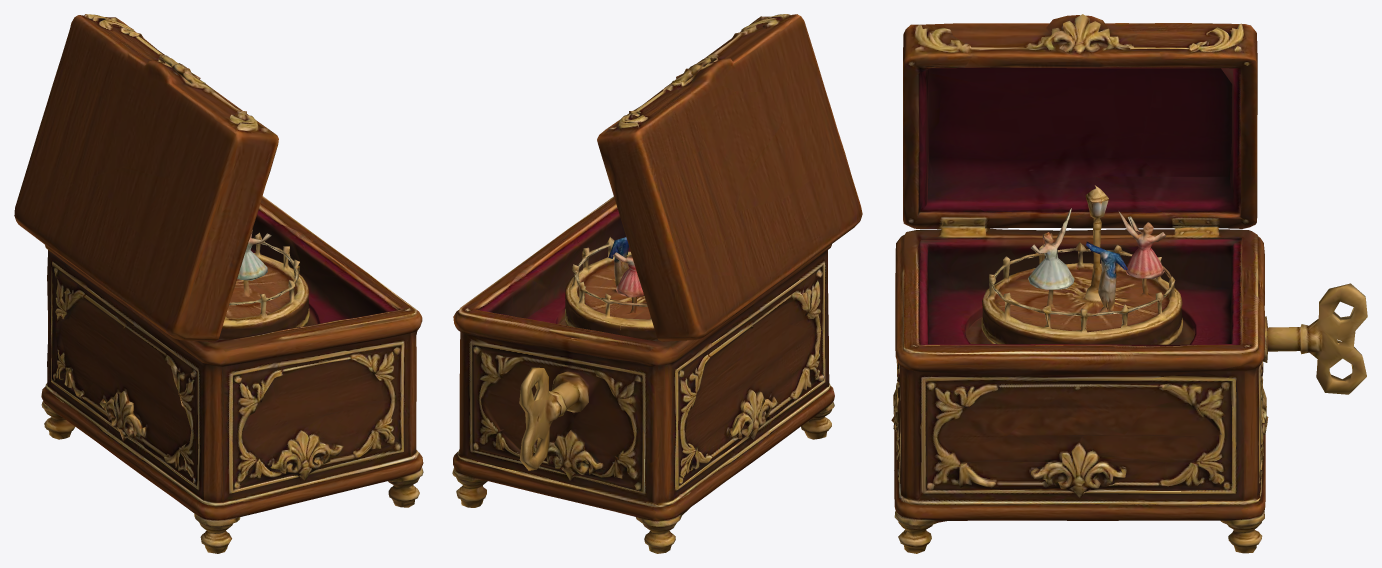
File: musicbox.glb
The picture shows the model from 3 angles, left to right: view 1: azimuth 30°, elevation 25°; view 2: azimuth 150°, elevation 25°; view 3: azimuth 270°, elevation 25°; orthographic projection. The views are drawn at different scales.
Visible parts, largest first — view 1: node_314e4701-2cbb-41be-8ff7-6c18025a0c9f; view 2: node_314e4701-2cbb-41be-8ff7-6c18025a0c9f; view 3: node_314e4701-2cbb-41be-8ff7-6c18025a0c9f.
Boxes of the visible parts, box(x1,y1,x2,y2) form: node_314e4701-2cbb-41be-8ff7-6c18025a0c9f: box(14, 14, 423, 553); node_314e4701-2cbb-41be-8ff7-6c18025a0c9f: box(452, 14, 862, 553); node_314e4701-2cbb-41be-8ff7-6c18025a0c9f: box(891, 14, 1367, 553).
Size of the model in its own units: 0.6081 by 0.9824 by 0.9361.
Materials: 1 (1 with a texture image).
